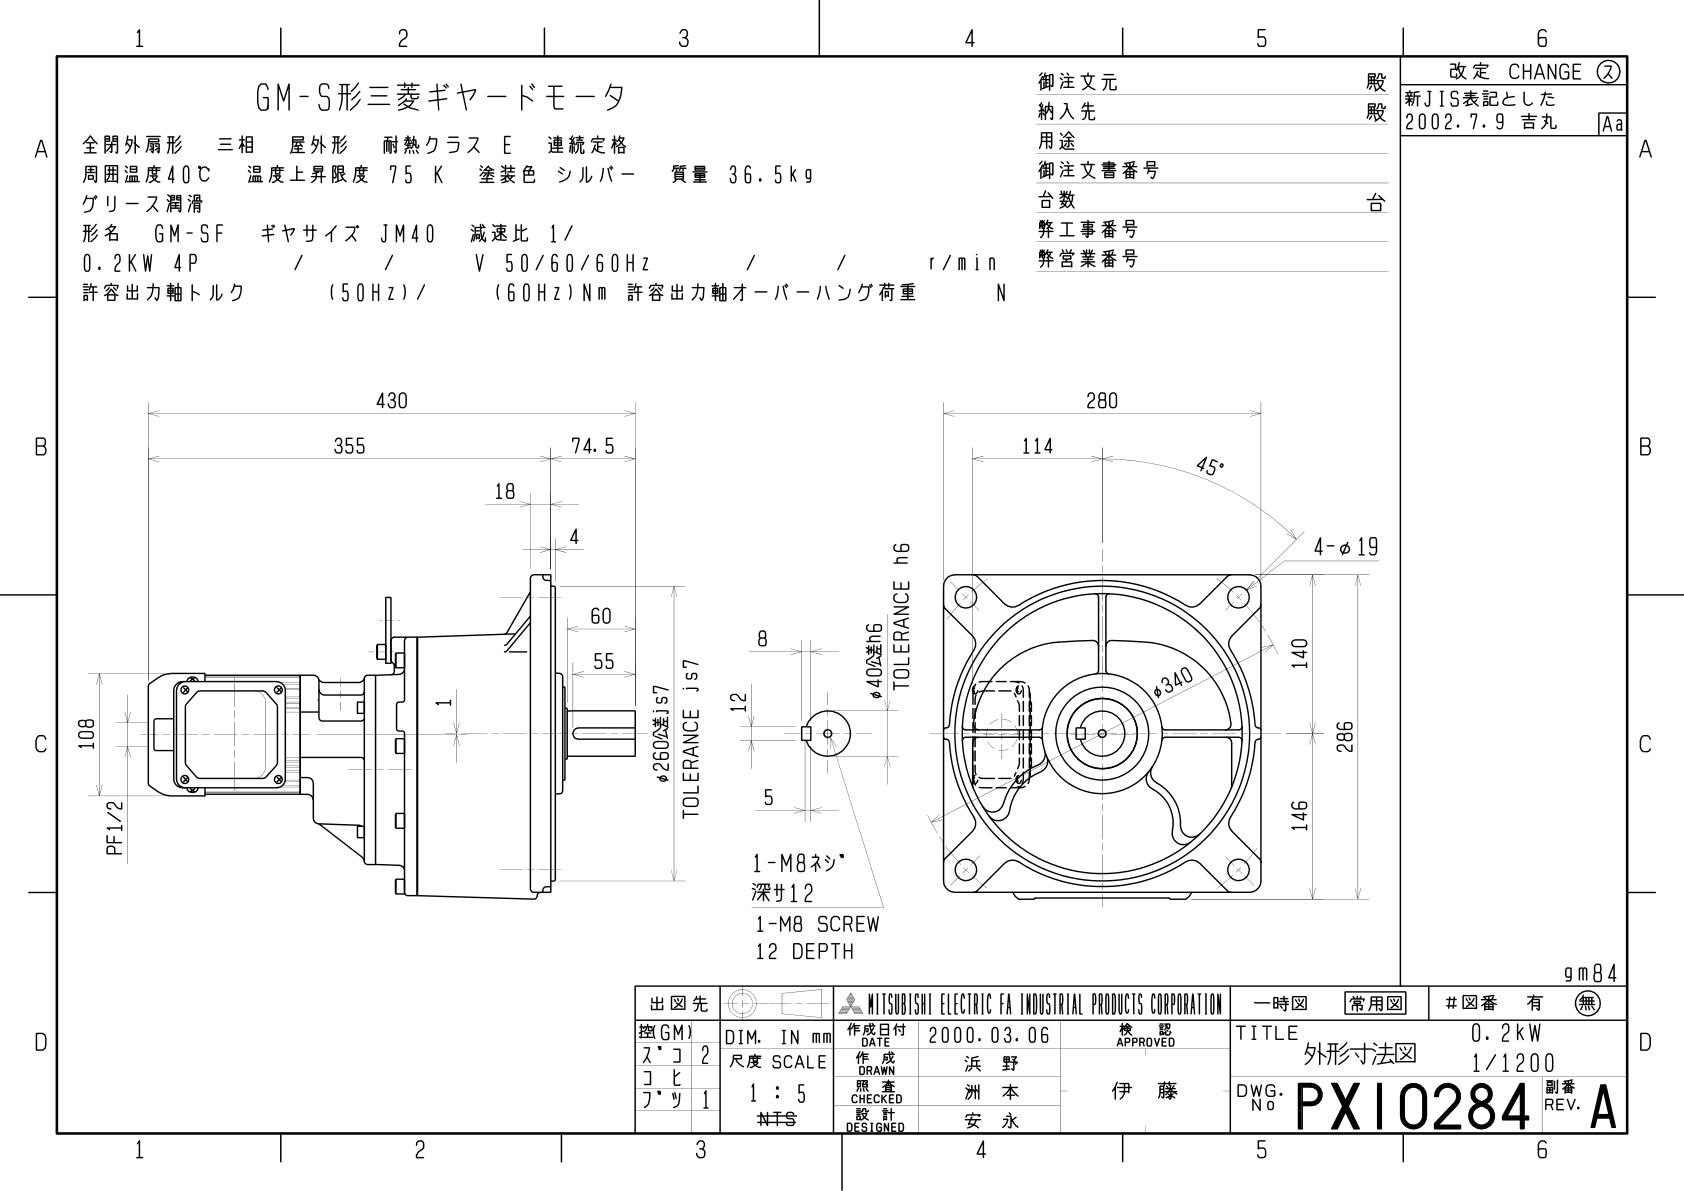GM_S_屋外＿三相_フランジ: (71, 357, 1392, 980)
